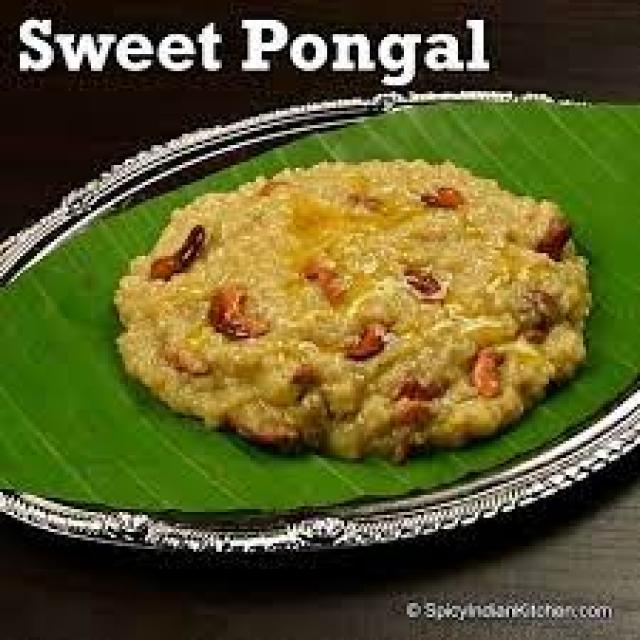PONGAL: (110, 160, 591, 467)
